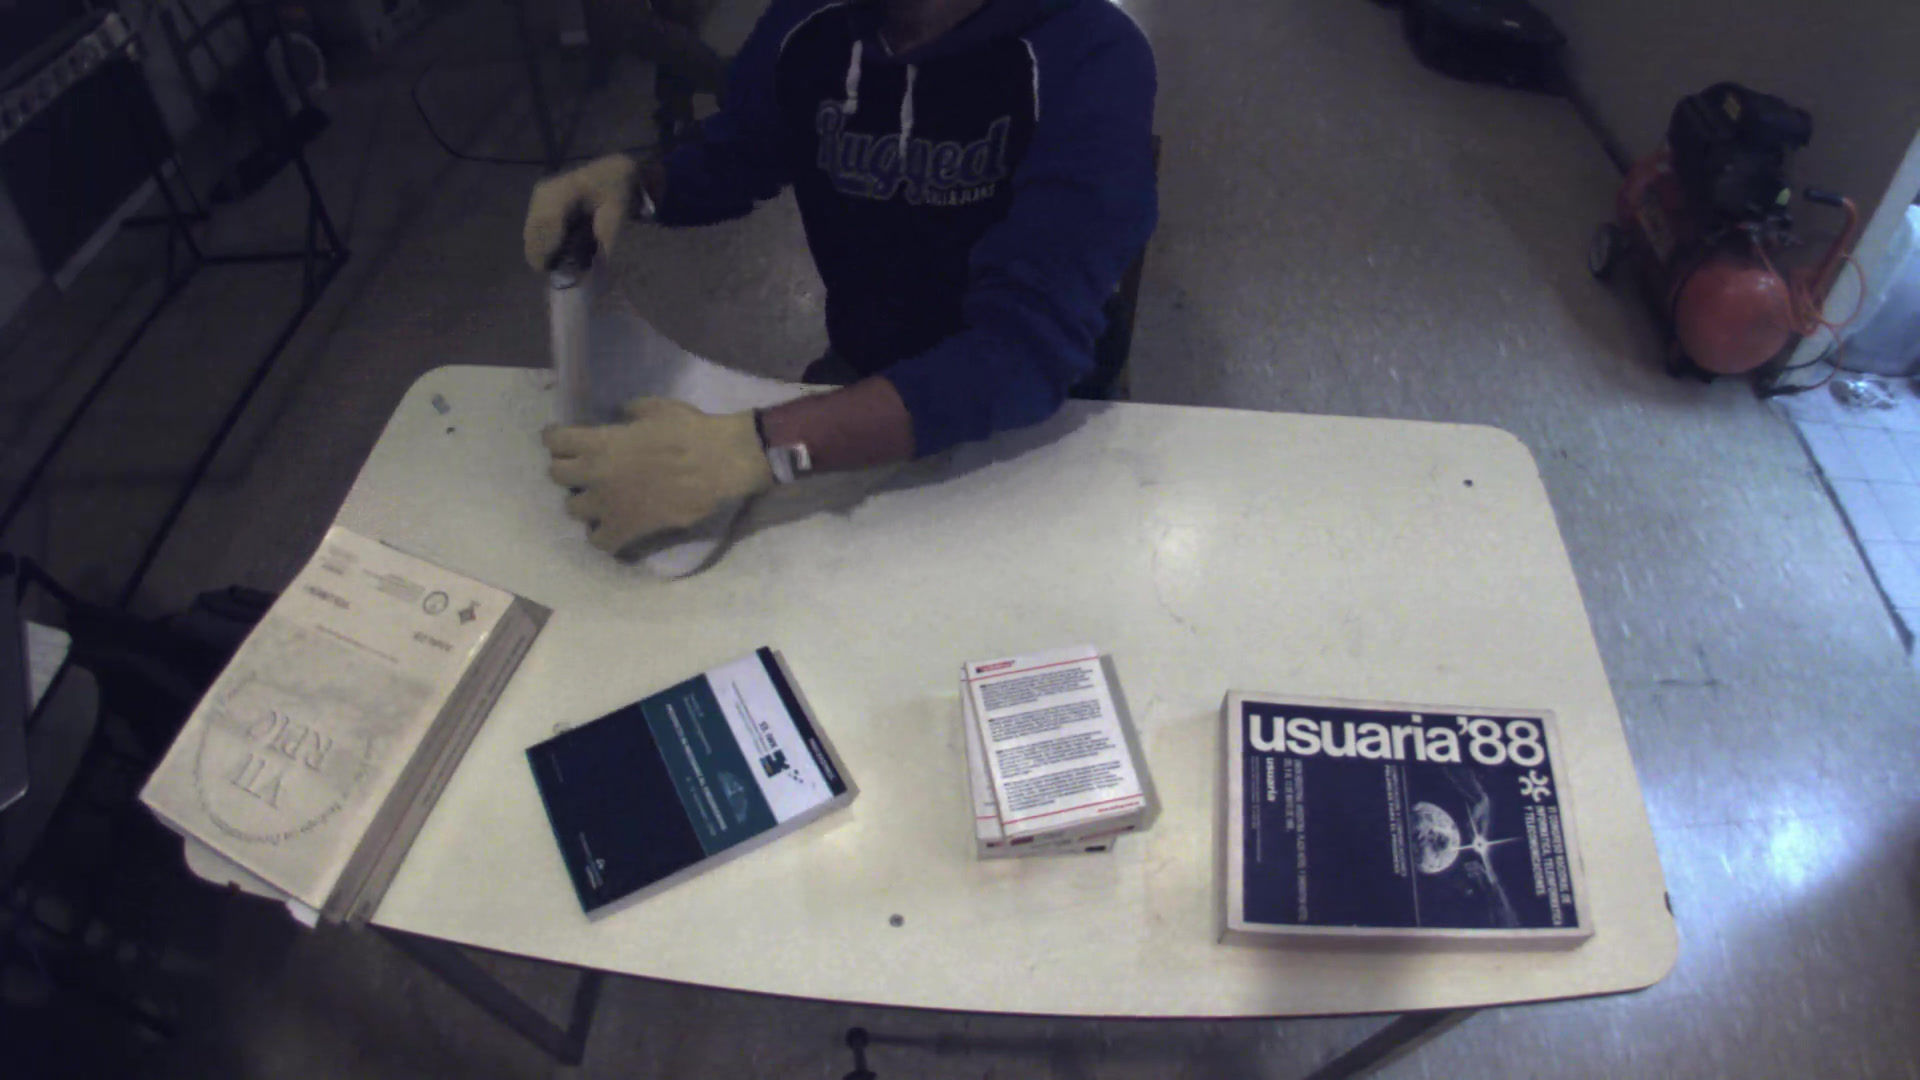hand: (525, 385, 770, 546), (504, 142, 658, 264)
